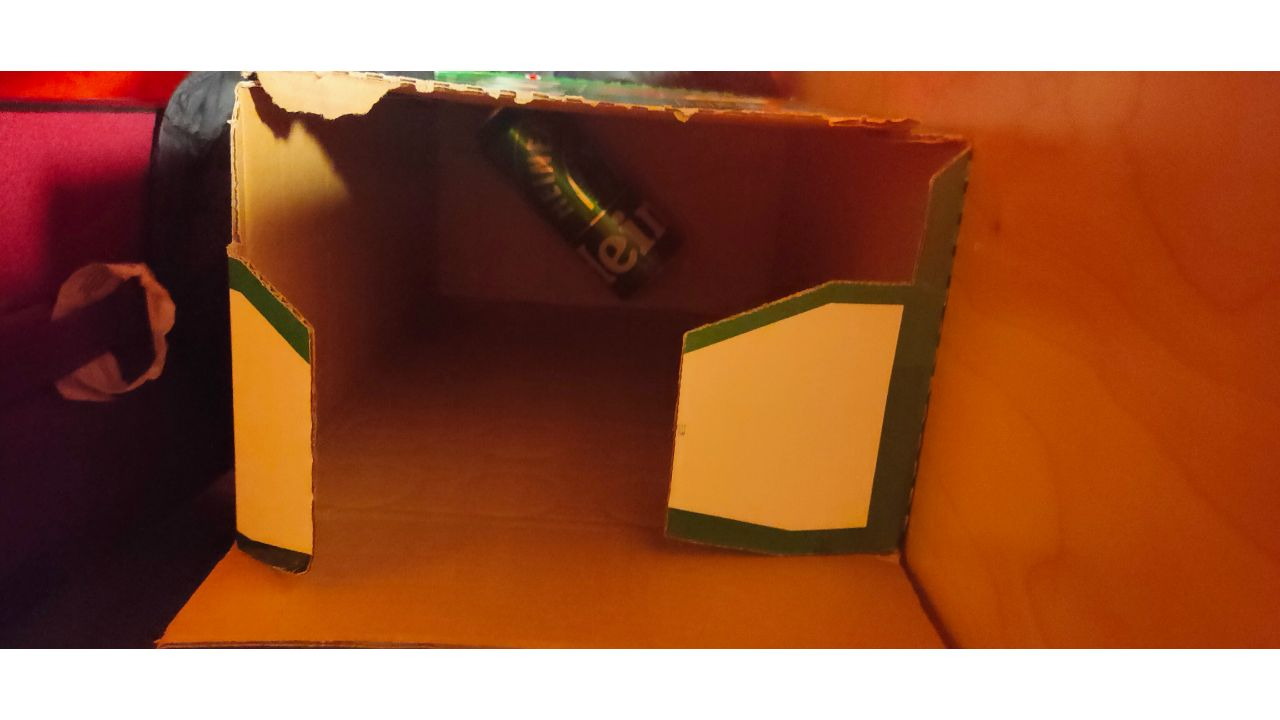Can: (477, 104, 681, 294)
